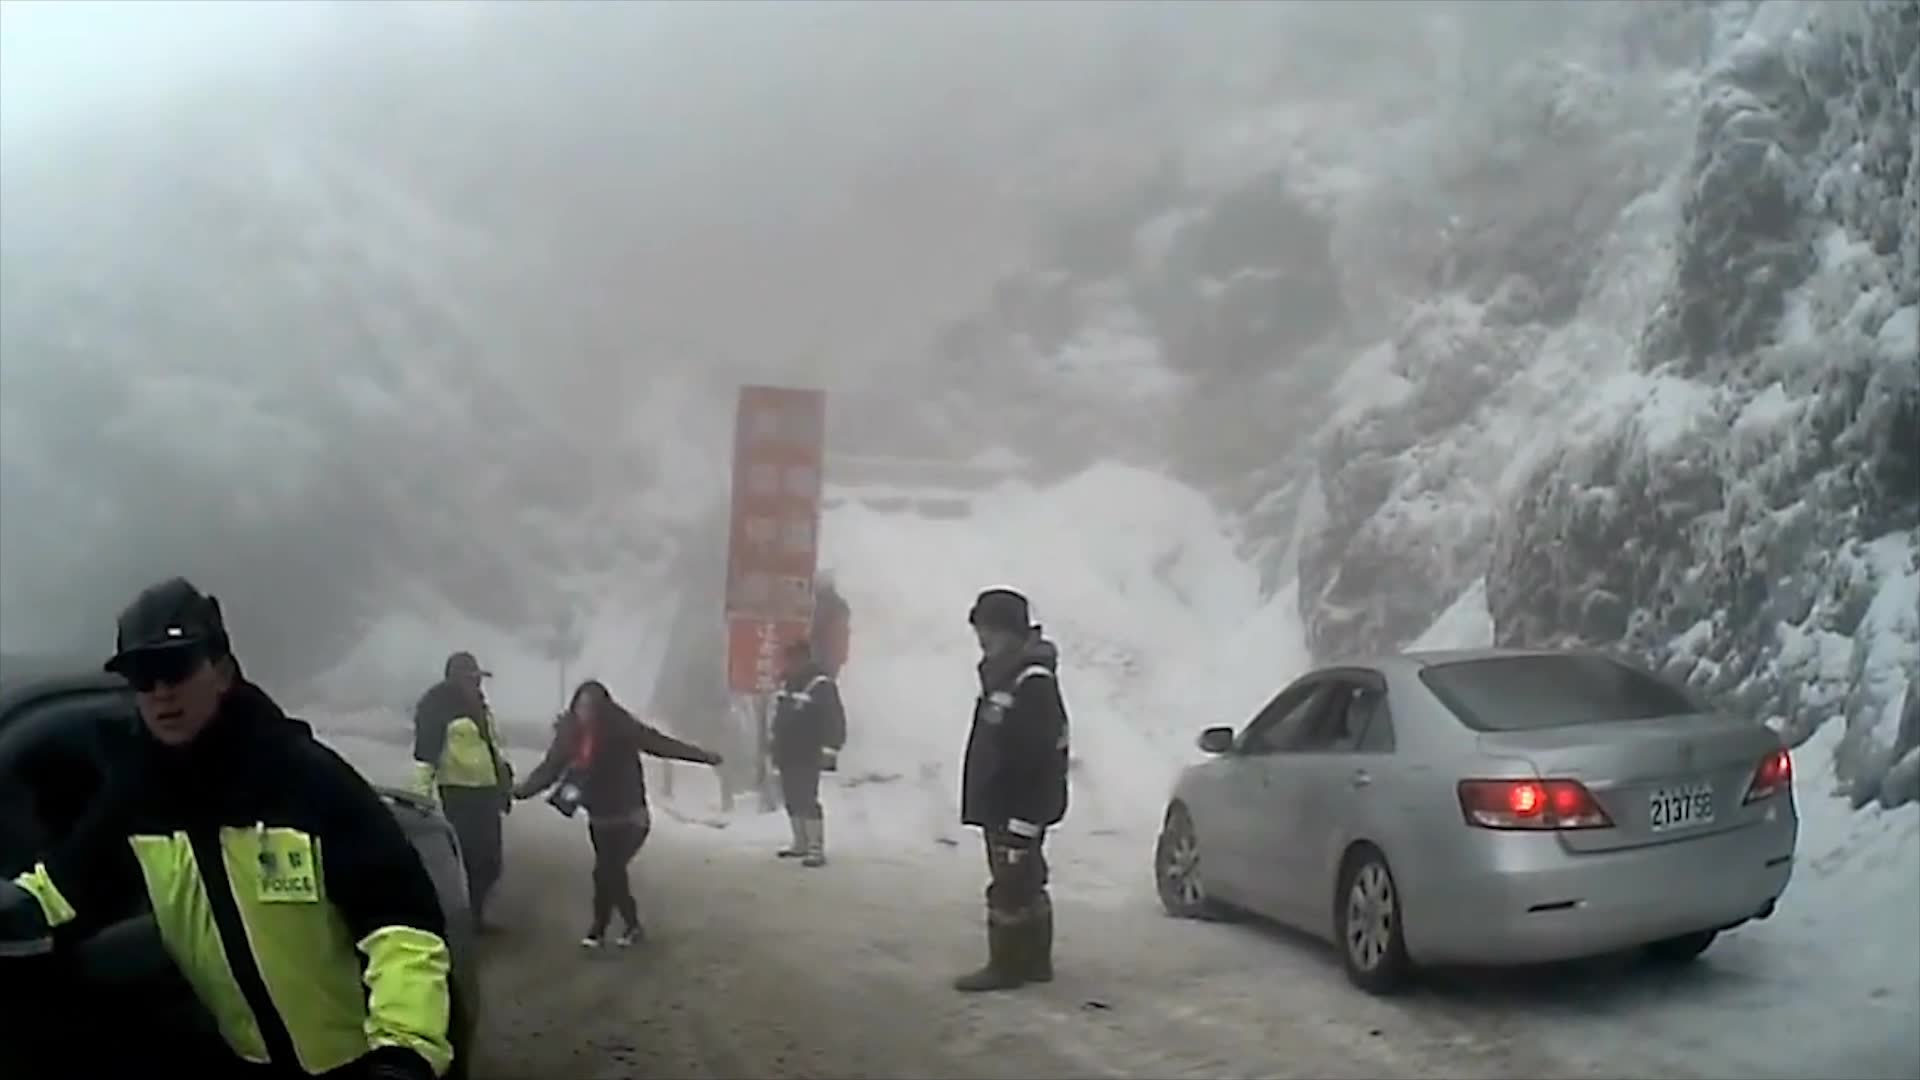pedestrian: (14, 575, 466, 1080), (517, 677, 717, 952), (939, 586, 1070, 992), (404, 648, 524, 934), (764, 638, 847, 866), (796, 564, 858, 752)
vehicle: (1151, 645, 1799, 993), (0, 656, 478, 1079)
